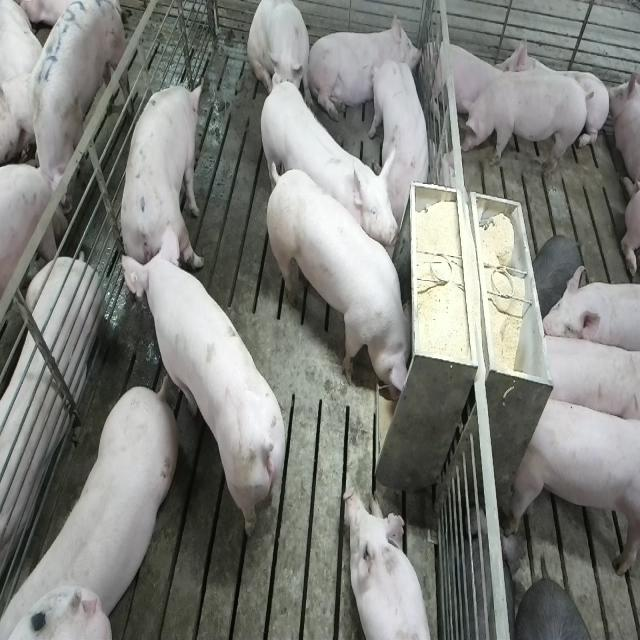Feeding: (270, 163, 421, 401)
Sitting: (248, 0, 312, 110)
Standing: (126, 238, 292, 548), (6, 377, 182, 634), (255, 78, 398, 260), (506, 392, 638, 586), (24, 0, 127, 216), (119, 75, 206, 273), (459, 67, 586, 178), (534, 331, 637, 428), (539, 267, 640, 355)
Sternal_lying: (344, 487, 433, 640), (500, 28, 610, 151), (312, 12, 422, 124), (427, 33, 502, 123)
